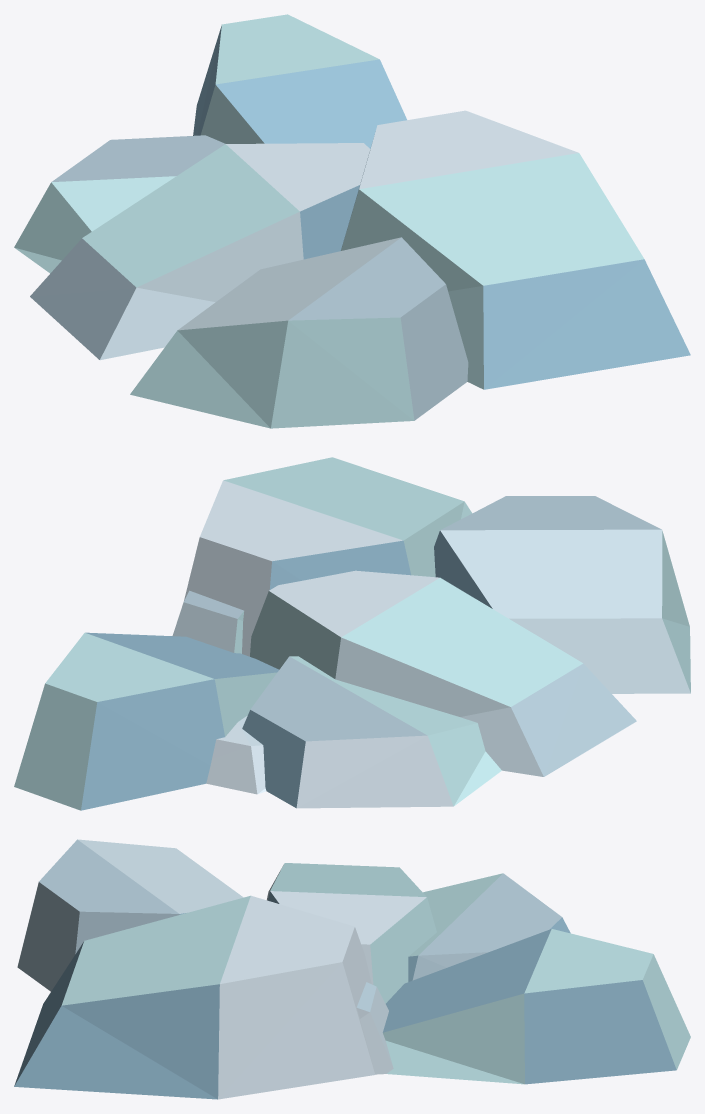
Rendered from Ice Rocks 6.fbx.
3 renders of one model, top to bottom at view 1: azimuth 30°, elevation 25°; view 2: azimuth 150°, elevation 25°; view 3: azimuth 270°, elevation 25°, orthographic. The views are drawn at different scales.
Visible parts, largest first — view 1: Ice block 2; view 2: Ice block 2; view 3: Ice block 2.
Boxes of the visible parts, x1,y1,x2,y2 form: Ice block 2: (14,14,690,428); Ice block 2: (14,457,690,810); Ice block 2: (14,839,690,1099).
Size of the model in its own units: 739 by 173 by 991.
